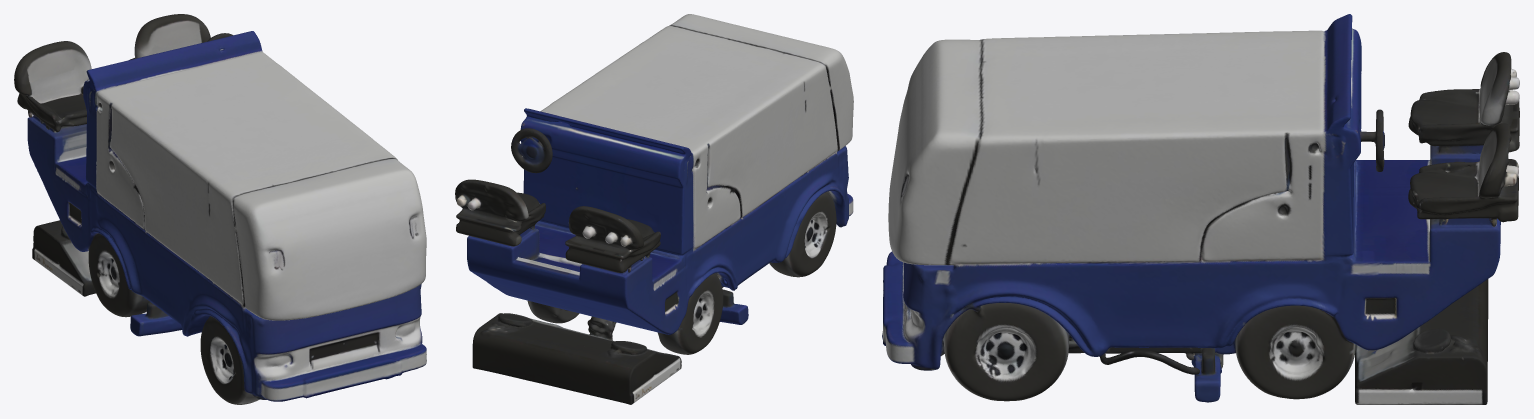
Rendered from sweeper.glb.
The picture shows the model from 3 angles, left to right: view 1: azimuth 30°, elevation 25°; view 2: azimuth 150°, elevation 25°; view 3: azimuth 270°, elevation 25°; orthographic projection. The views are drawn at different scales.
Parts seen in each view (by area): view 1: tripo_node_b576903d-4ed0-4cab-bfd8-c6221a76ef46; view 2: tripo_node_b576903d-4ed0-4cab-bfd8-c6221a76ef46; view 3: tripo_node_b576903d-4ed0-4cab-bfd8-c6221a76ef46.
Boxes of the visible parts, box(x1,y1,x2,y2) form: tripo_node_b576903d-4ed0-4cab-bfd8-c6221a76ef46: box(14, 14, 426, 404); tripo_node_b576903d-4ed0-4cab-bfd8-c6221a76ef46: box(455, 14, 853, 404); tripo_node_b576903d-4ed0-4cab-bfd8-c6221a76ef46: box(882, 14, 1519, 404).
Bounding box in the file's own units: 0.4416 × 0.5023 × 1.
Materials: 1 (1 with a texture image).
